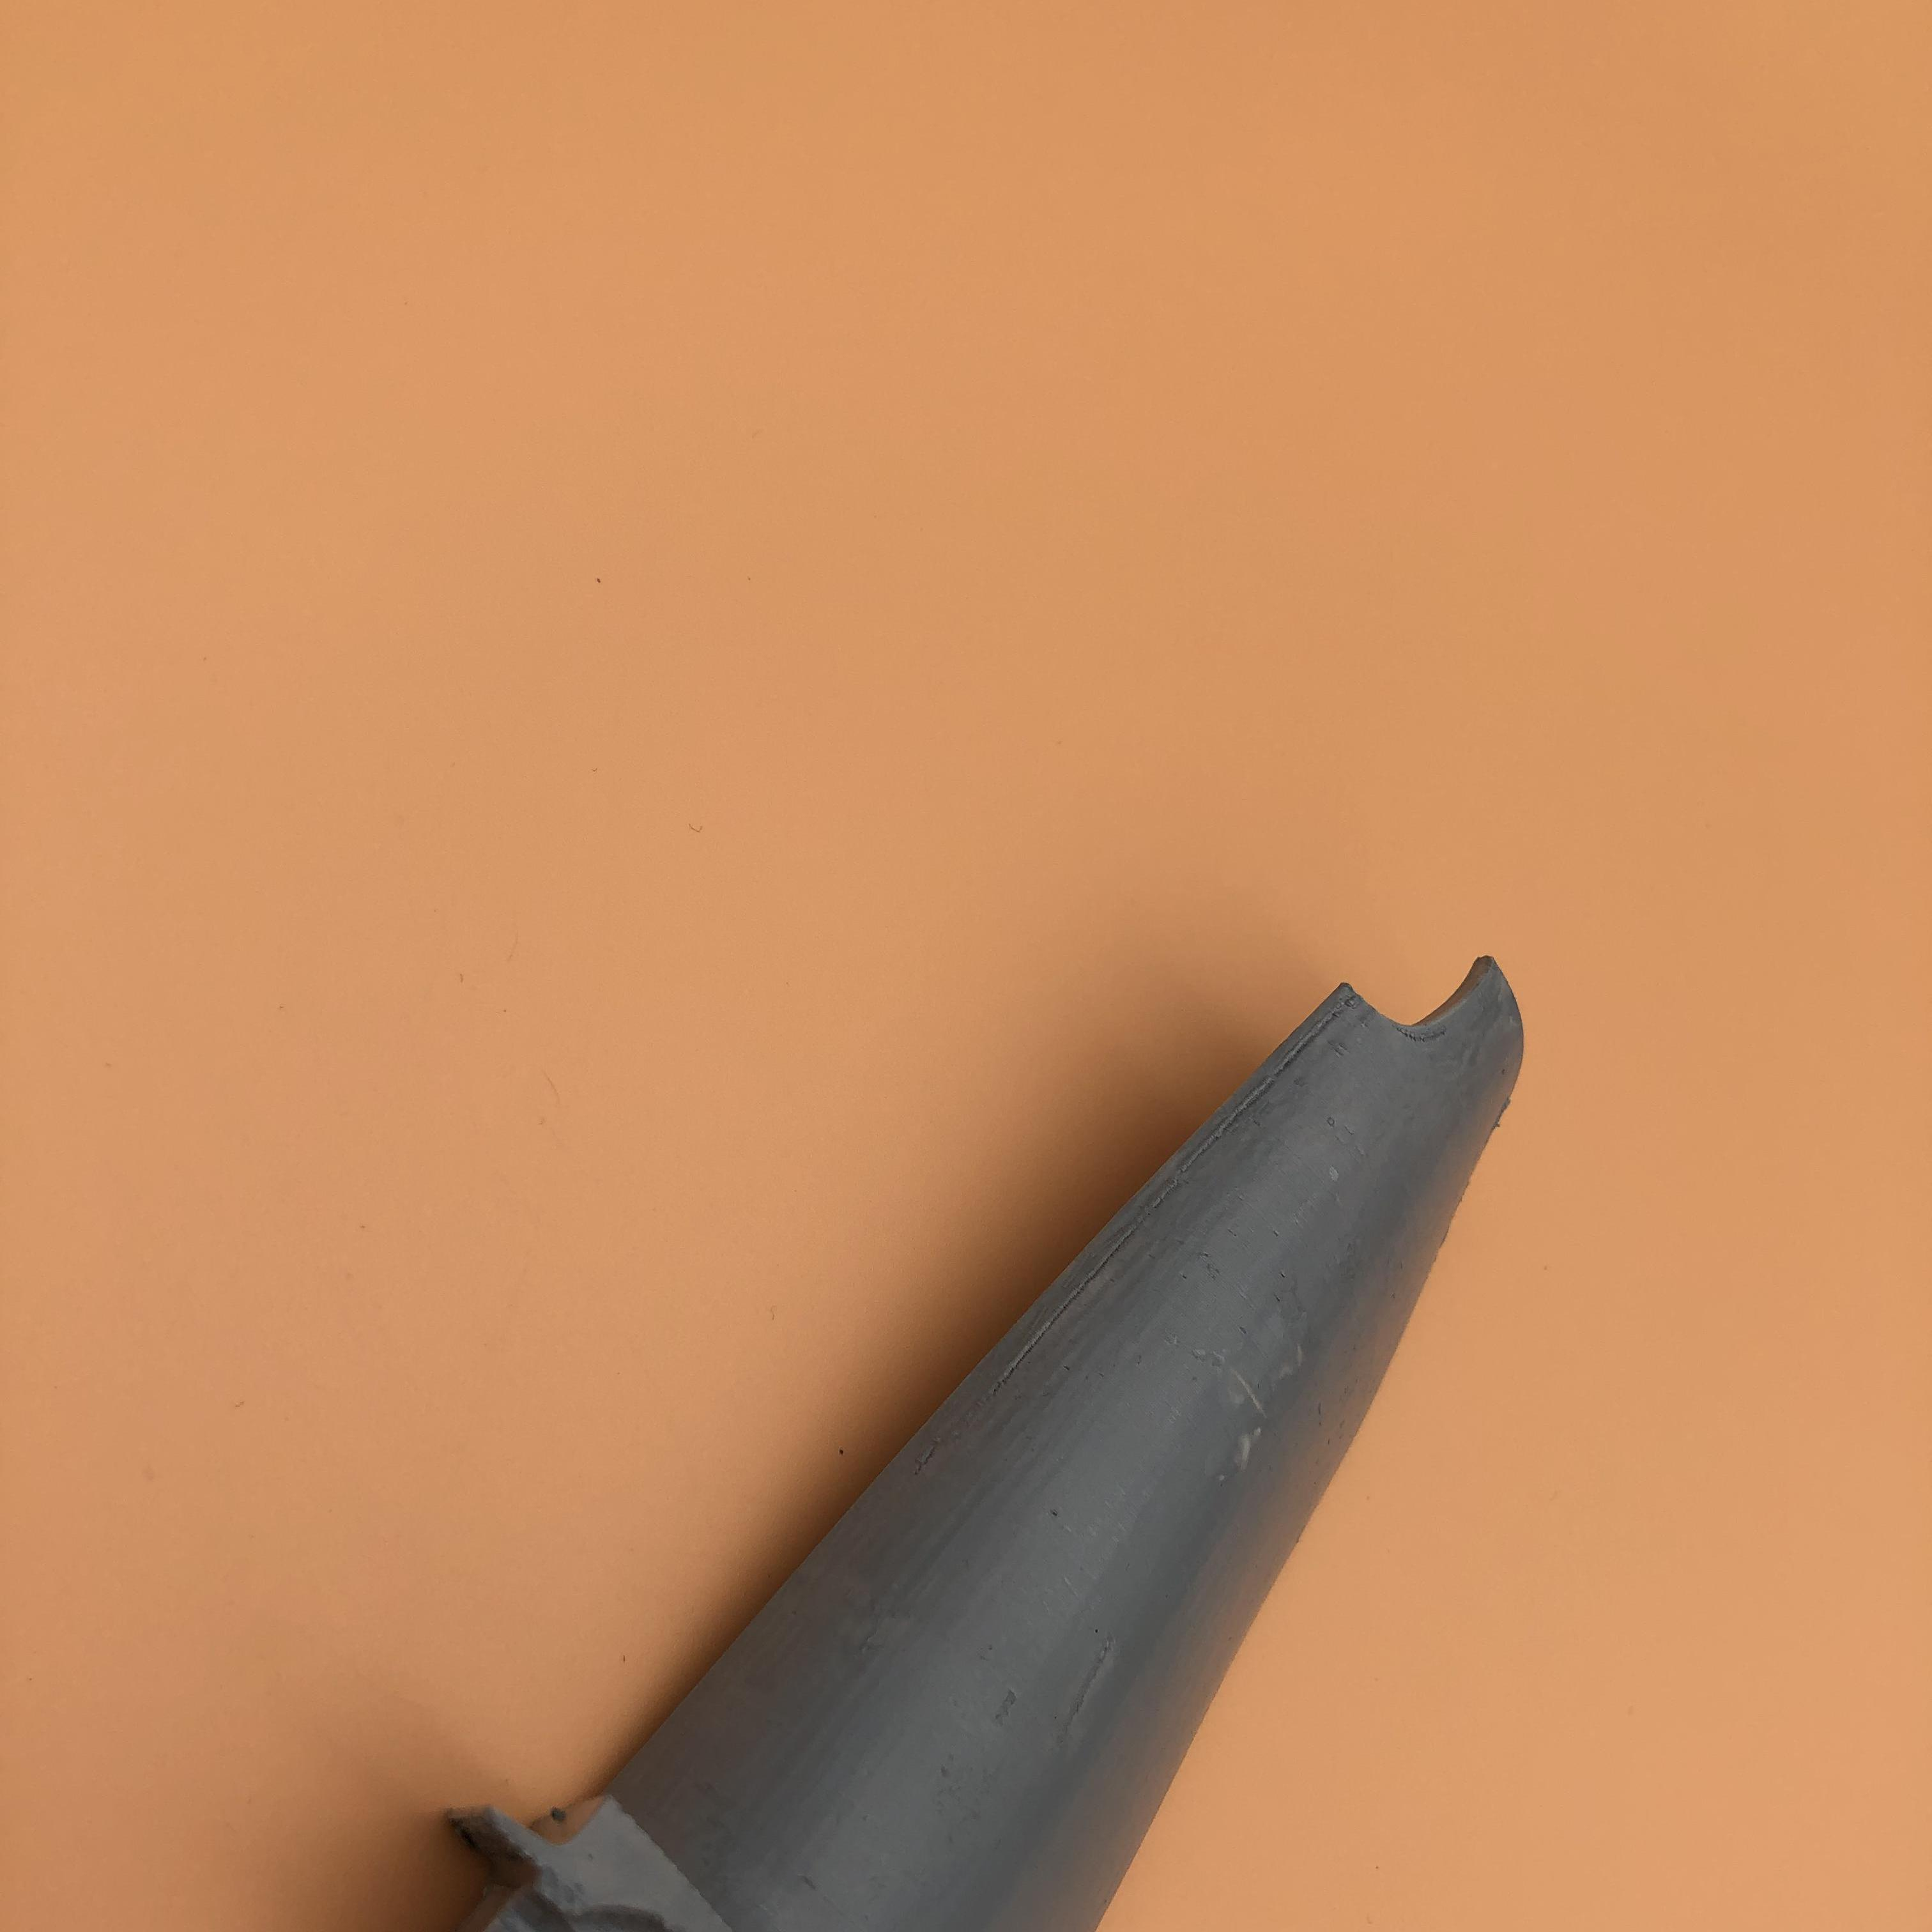fracture: (1345, 955, 1511, 1051)
